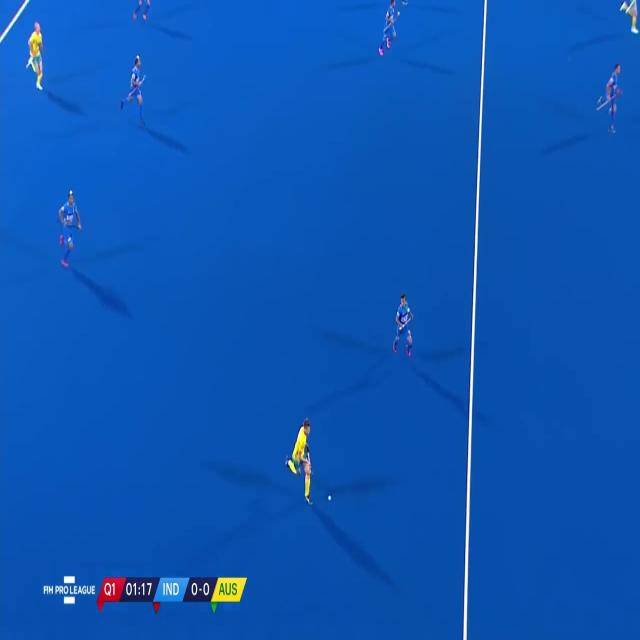ball: (323, 491, 334, 506)
